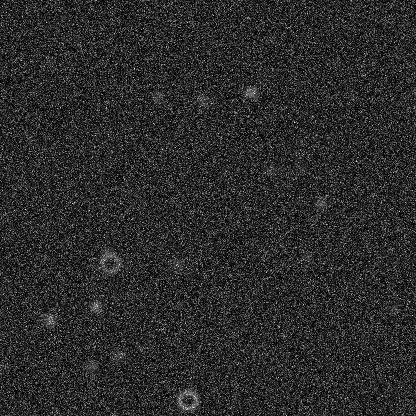Ring: (98, 251, 122, 275), (175, 388, 199, 412)
Spot: (194, 92, 210, 108), (291, 160, 307, 176), (87, 298, 103, 314), (111, 348, 127, 364), (242, 83, 258, 99), (98, 244, 114, 260), (263, 162, 279, 178), (384, 302, 400, 318), (82, 358, 98, 374), (312, 195, 328, 211), (299, 248, 315, 264), (169, 256, 185, 272), (41, 312, 57, 328), (148, 89, 164, 105), (41, 53, 57, 69)
